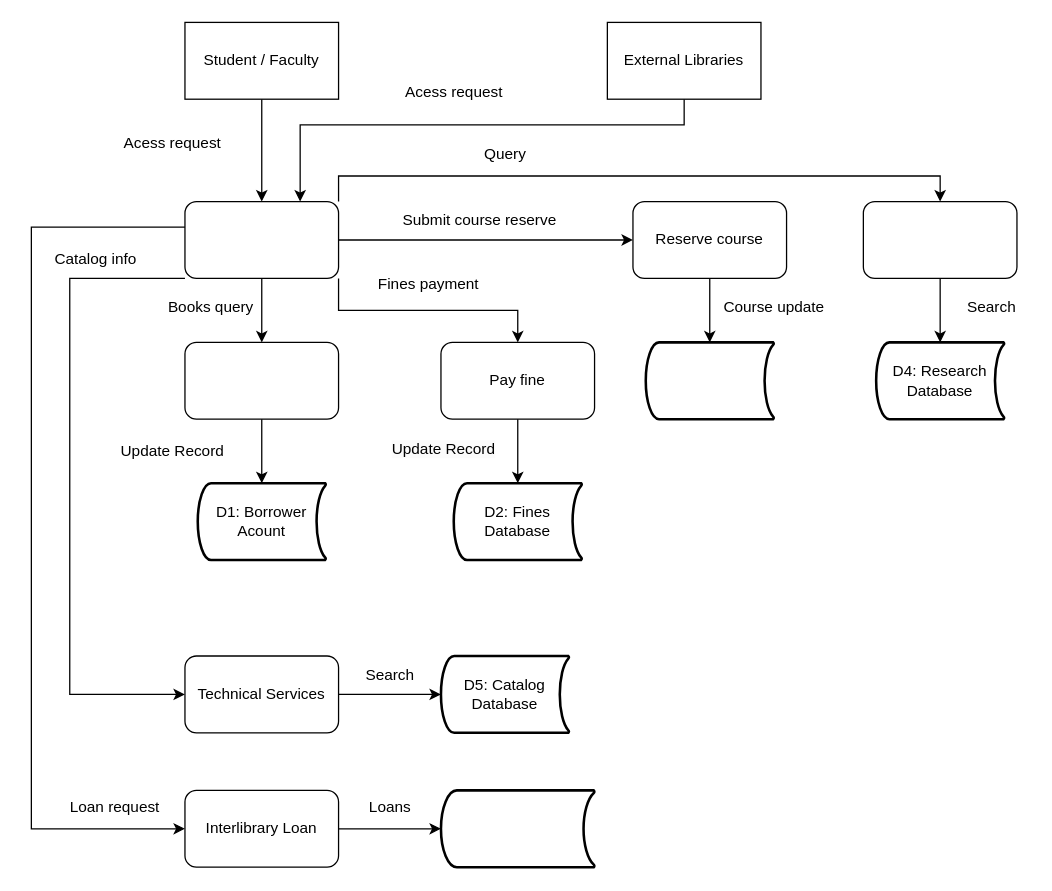
The diagram is 1052 pixels wide and 891 high, and some of its shapes have lost their labels. Here are the shapes that lost their labels. From the top down, the centre of each, then its label:
(261,239): Acess Services
(939,239): Research Query
(261,380): Return book
(709,380): D3: Course Reserves
(517,828): D6: ILL Requests
